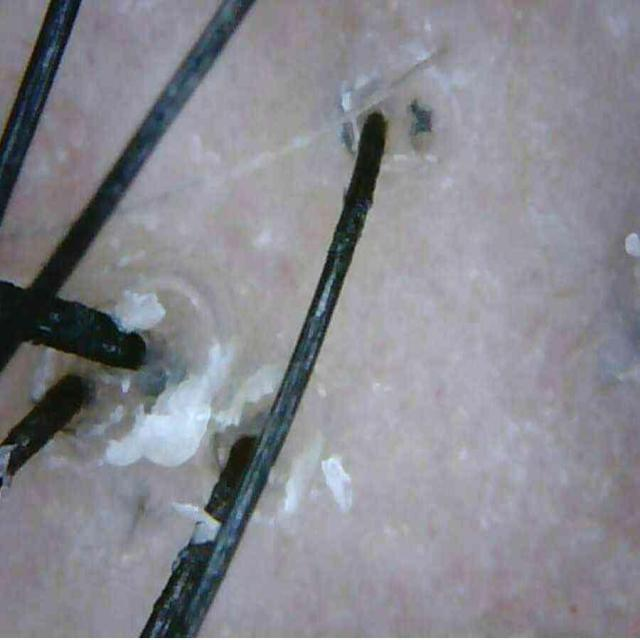d: (105, 343, 232, 467), (214, 365, 281, 428), (110, 291, 166, 331), (171, 504, 221, 544), (321, 457, 352, 513), (82, 405, 125, 438), (0, 445, 16, 498), (625, 232, 640, 257)
ds: (321, 30, 448, 126)
